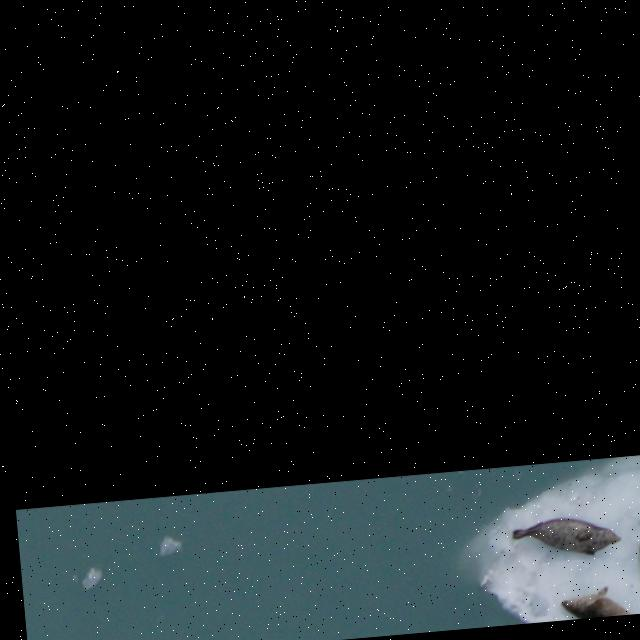seal: (509, 509, 627, 565), (556, 582, 640, 620), (629, 506, 640, 592)
